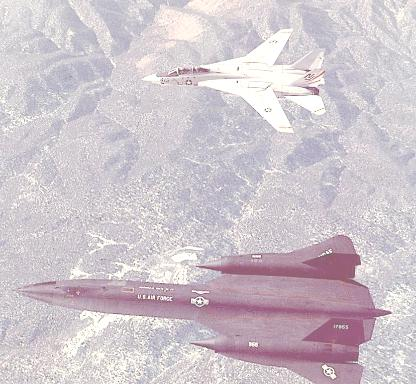EF2000: (140, 27, 326, 132)
Rafale: (10, 233, 392, 382)
